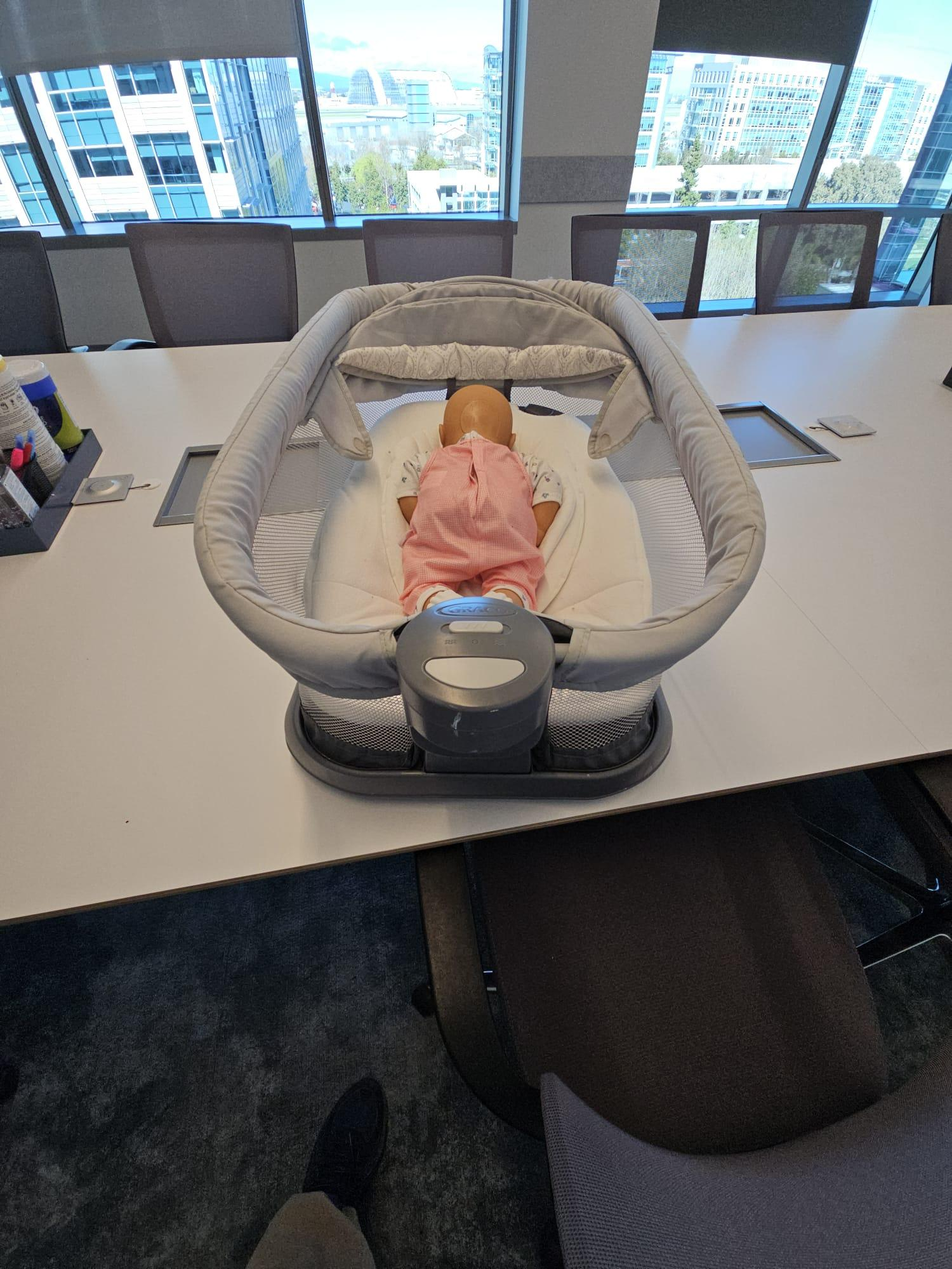baby: (393, 371, 581, 628)
